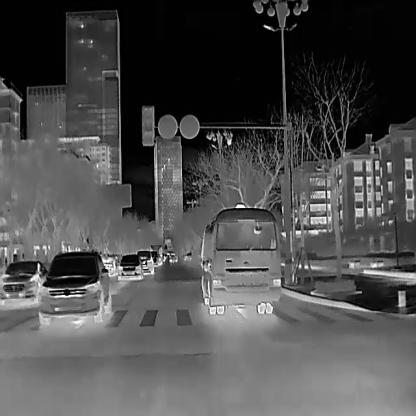bus: (200, 200, 282, 314), (149, 244, 162, 262)
car: (35, 248, 108, 326), (0, 260, 46, 301), (114, 252, 141, 280), (138, 250, 153, 274), (167, 251, 177, 262)
